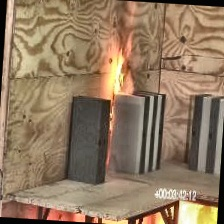fire: (99, 38, 140, 113)
